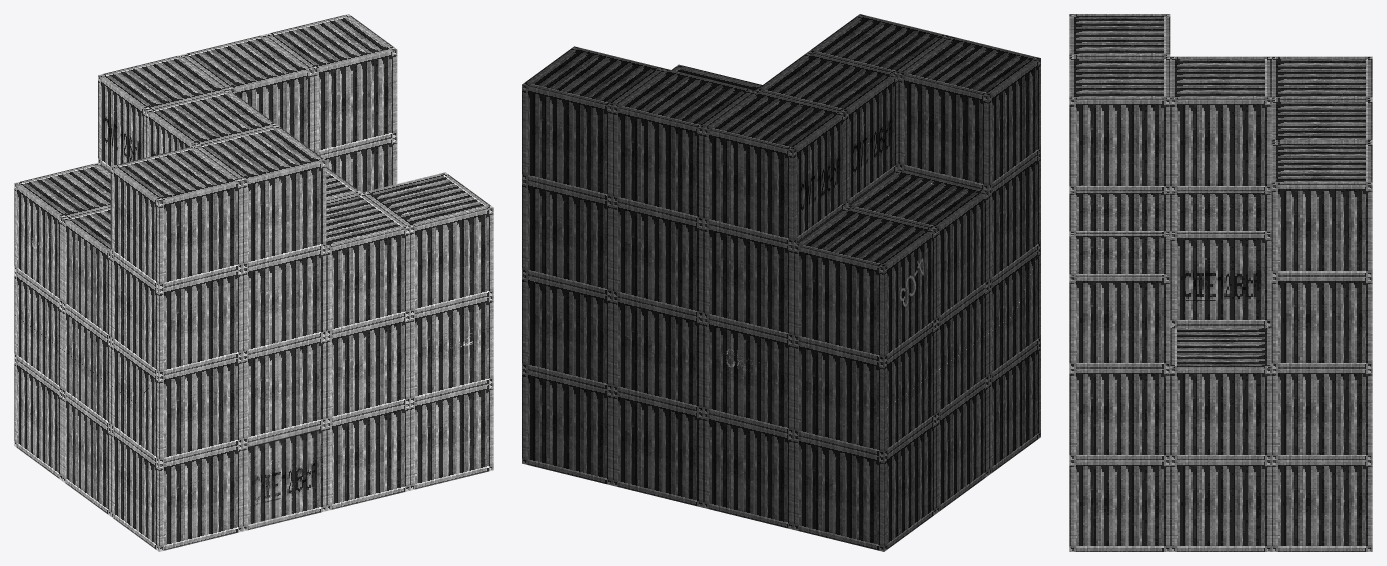
Rendered from Pboxes3x4Z.obj.
3 views of the same model, side by side, from view 1: azimuth 30°, elevation 25°; view 2: azimuth 150°, elevation 25°; view 3: azimuth 270°, elevation 25° (orthographic). The views are drawn at different scales.
Bounding box in the file's own units: 2800 × 2800 × 2100.
Materials: 8 (8 with a texture image).
